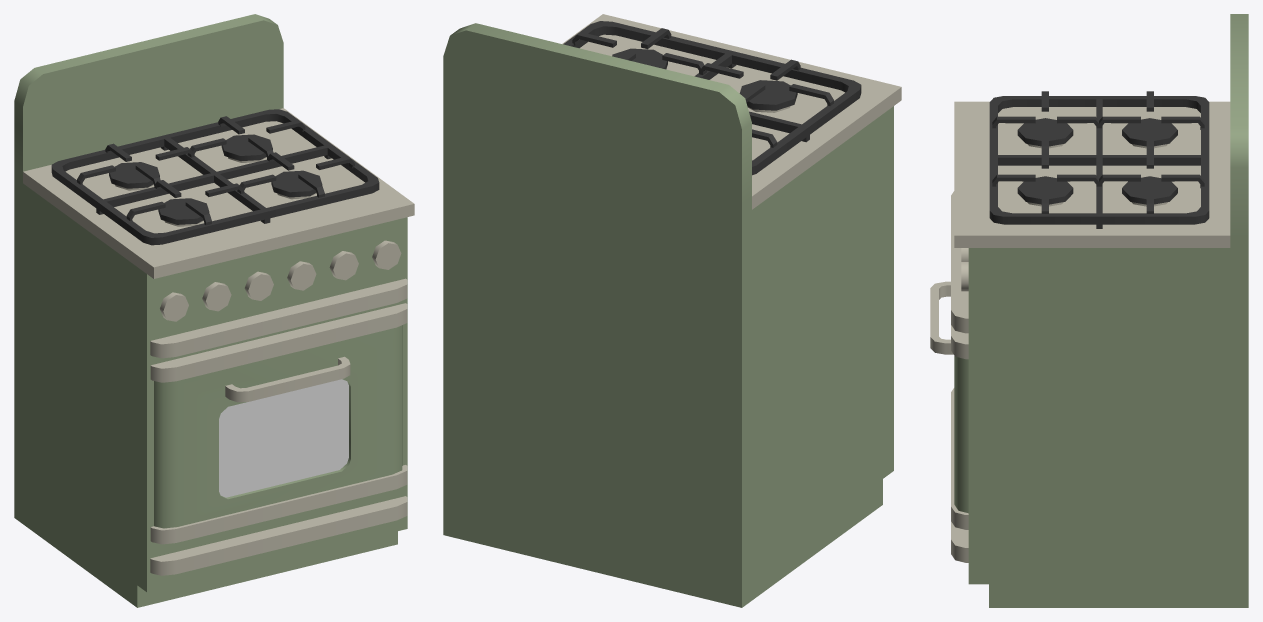
File: Oven_01.fbx
3 views of the same model, side by side, from view 1: azimuth 30°, elevation 25°; view 2: azimuth 150°, elevation 25°; view 3: azimuth 270°, elevation 25° (orthographic). The views are drawn at different scales.
Visible parts, largest first — view 1: Oven_01, Oven_01_Door; view 2: Oven_01; view 3: Oven_01, Oven_01_Door.
Boxes of the visible parts, left/top/right/bottom form: Oven_01: left=14, top=14, right=414, bottom=607; Oven_01_Door: left=150, top=303, right=407, bottom=544; Oven_01: left=443, top=14, right=901, bottom=607; Oven_01: left=951, top=14, right=1248, bottom=607; Oven_01_Door: left=930, top=281, right=968, bottom=529.
Size of the model in its own units: 0.75 by 1.22 by 0.7508.
